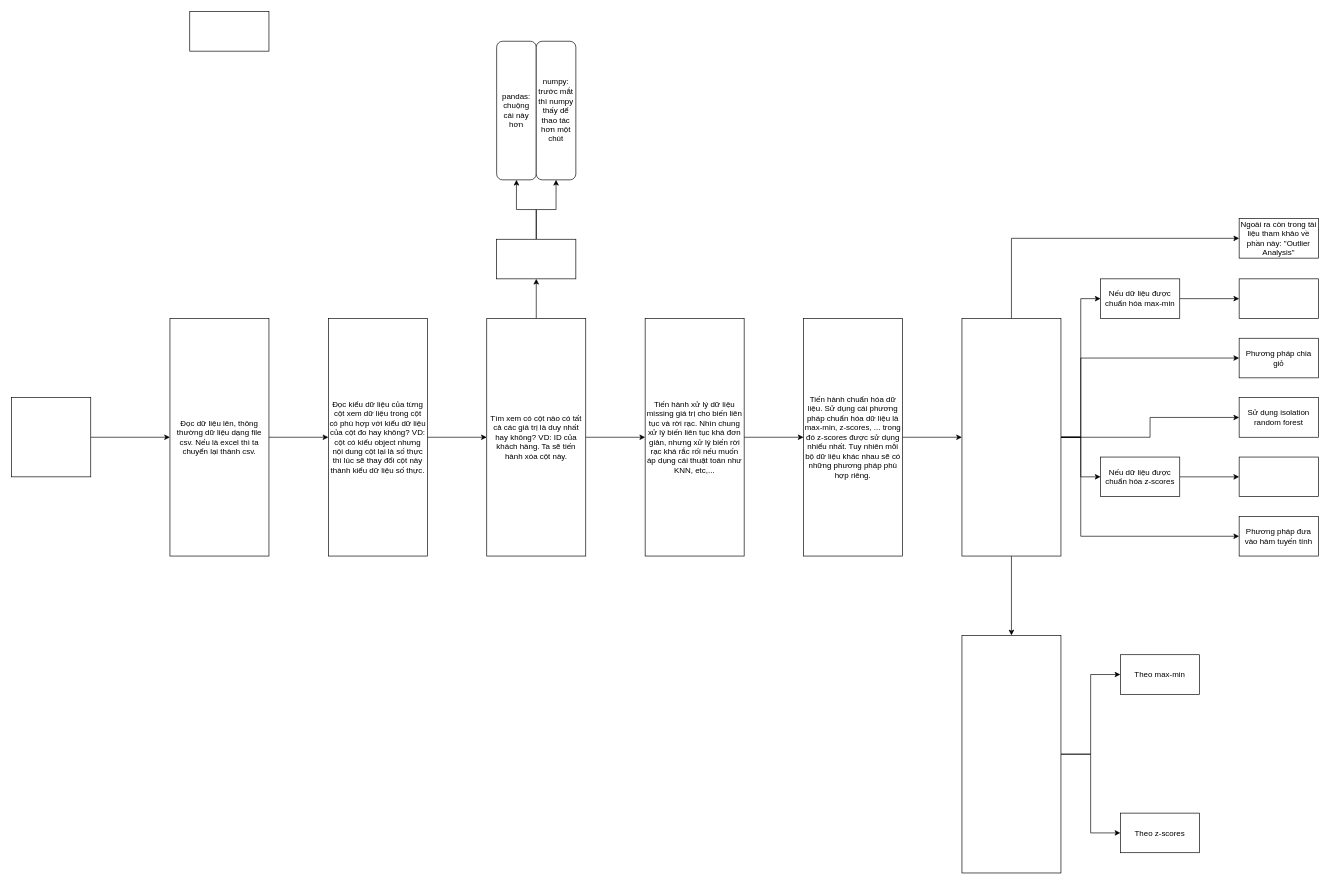
Some shapes in this 1330 by 885 pixel diagram are drawn without their labels. Each missing label, with the centre of its shape:
"Chuẩn hóa dữ liệu" belongs at point 1011,754.
"Có hai kiểu đọc" belongs at point 536,259.
"Phương Pháp DBSCAN" belongs at point 1278,298.
"Tiếp đến là phần xử lý dữ liệu bị nhiễu. Được chia ra các trường hợp sau:" belongs at point 1011,437.
"Tiền xử lý dữ liệu" belongs at point 51,437.
"Xử lý nhiễu bằng z-scores" belongs at point 1278,476.
